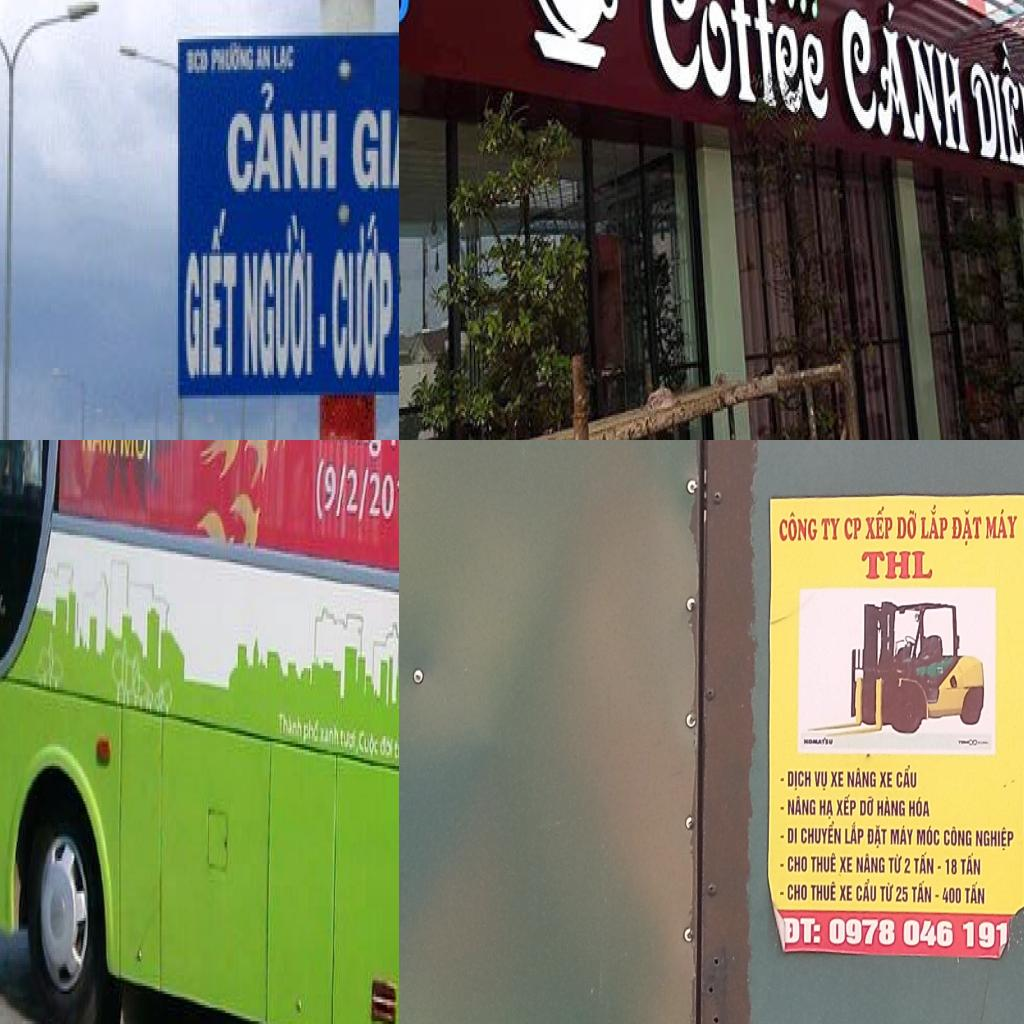text: (646, 0, 836, 126), (836, 0, 973, 163), (224, 76, 343, 198), (240, 212, 314, 382), (330, 208, 399, 382), (182, 209, 239, 385), (351, 86, 399, 198), (860, 548, 936, 584), (367, 470, 399, 527), (209, 39, 255, 77), (778, 509, 818, 546), (950, 505, 984, 548), (317, 440, 385, 461), (782, 914, 823, 946), (984, 506, 1019, 542), (975, 823, 1016, 852), (919, 502, 948, 542), (117, 440, 155, 470), (312, 454, 328, 524), (276, 704, 304, 744), (864, 505, 894, 542), (321, 459, 338, 524), (800, 820, 842, 846), (272, 39, 297, 80), (344, 464, 360, 522), (333, 462, 348, 522), (358, 723, 380, 763), (339, 720, 359, 763), (357, 464, 370, 527), (186, 46, 210, 80), (80, 440, 118, 461), (319, 717, 340, 755), (894, 507, 918, 540), (302, 709, 321, 750), (846, 766, 877, 790), (378, 728, 395, 771), (253, 39, 272, 77), (855, 852, 886, 875), (943, 825, 973, 848), (876, 796, 906, 818), (820, 513, 842, 542), (787, 795, 816, 817), (810, 851, 837, 874), (916, 823, 940, 848), (787, 768, 813, 791), (866, 823, 888, 850), (896, 764, 918, 790), (914, 850, 936, 876), (810, 880, 836, 902), (964, 880, 986, 906), (908, 795, 932, 818), (856, 878, 878, 903), (835, 793, 857, 817), (890, 824, 914, 846), (844, 821, 864, 847), (960, 853, 982, 876), (912, 879, 932, 904), (941, 884, 963, 906), (843, 515, 862, 540), (786, 853, 809, 873), (787, 881, 808, 902), (818, 797, 835, 820), (859, 794, 875, 818), (887, 852, 903, 875), (803, 736, 834, 747), (814, 769, 828, 792), (880, 880, 894, 903), (830, 768, 844, 790), (838, 883, 853, 903), (894, 884, 909, 904), (839, 855, 854, 873), (879, 770, 893, 789), (945, 856, 958, 876), (786, 826, 798, 846), (393, 733, 399, 768), (904, 856, 912, 874), (779, 833, 785, 840), (779, 862, 785, 869), (779, 776, 785, 782), (779, 804, 785, 810), (934, 892, 940, 898), (779, 891, 785, 896), (937, 865, 942, 870)
